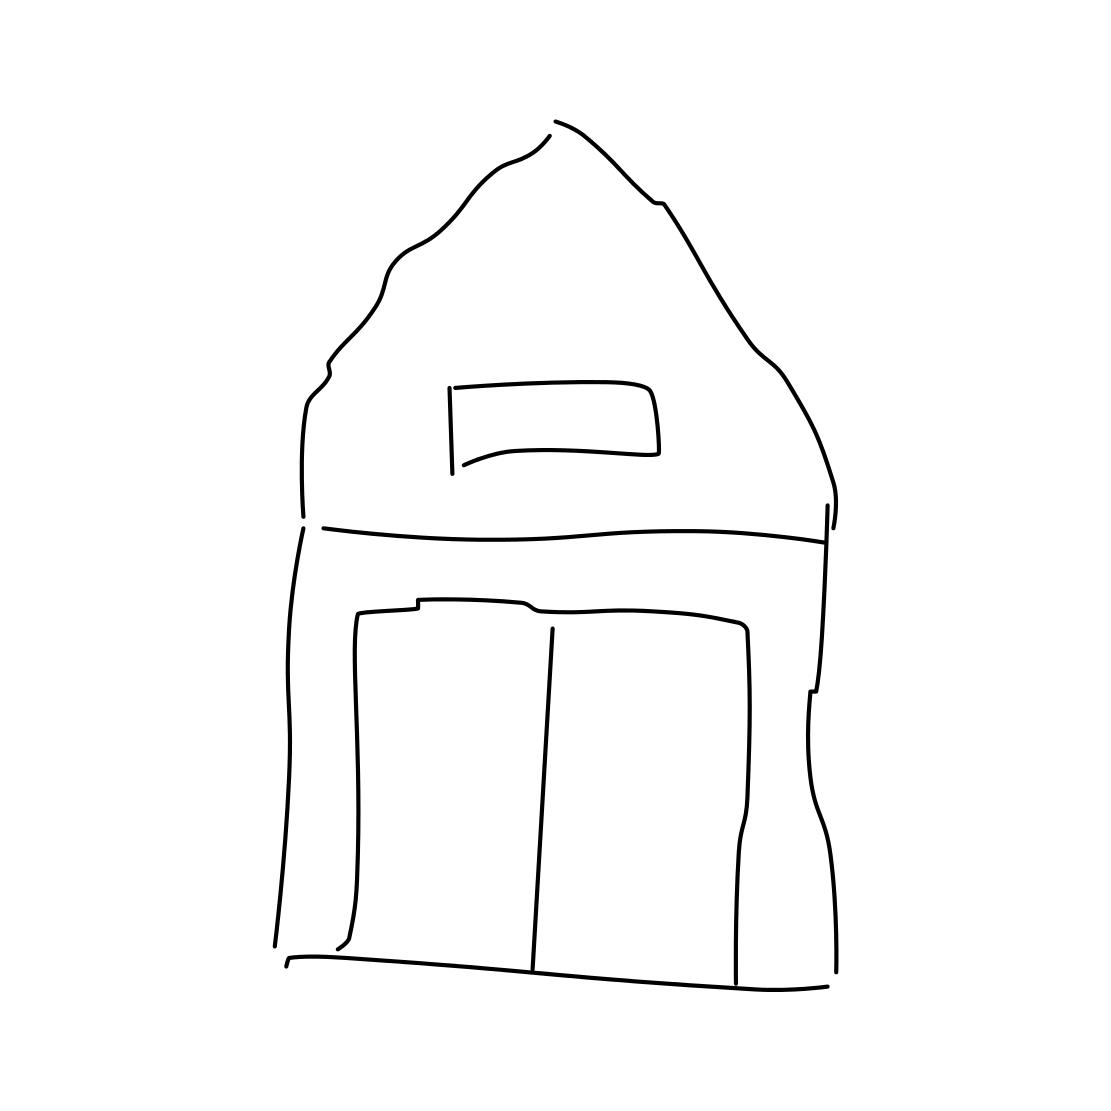House: (177, 93, 949, 1002)
